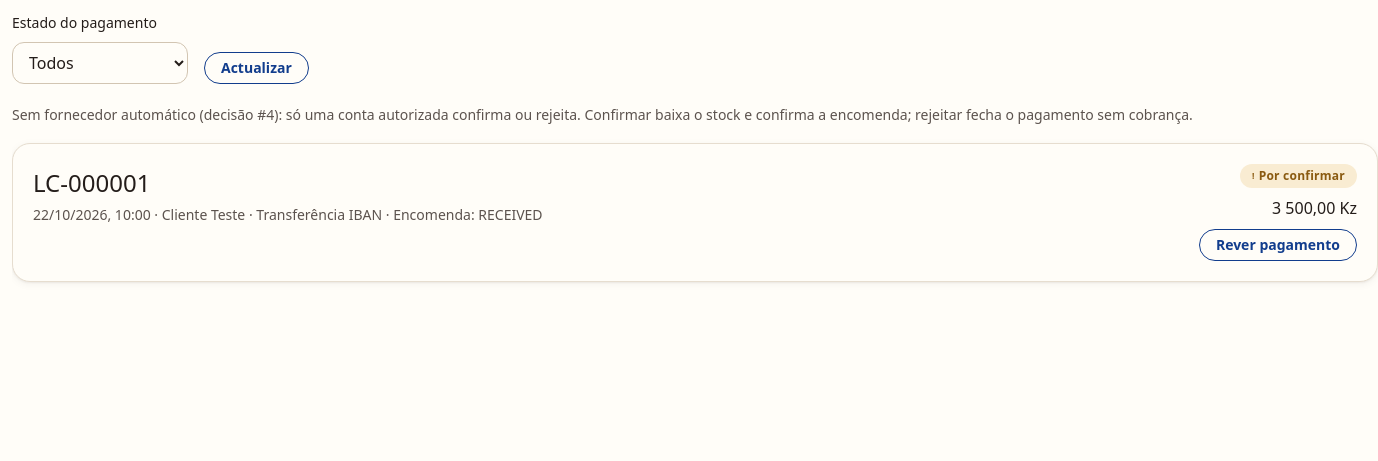
Test case: painel: fila de pagamentos › mostra a fila pendente com o contacto e abre a revisão
Expected: the link "LC-000001" is shown, left=33, top=166, right=150, bottom=199
Expected: the text "Cliente Teste" is shown, left=162, top=205, right=245, bottom=224
Click the button "Rever pagamento": [1278, 245] box left=1199, top=229, right=1357, bottom=261
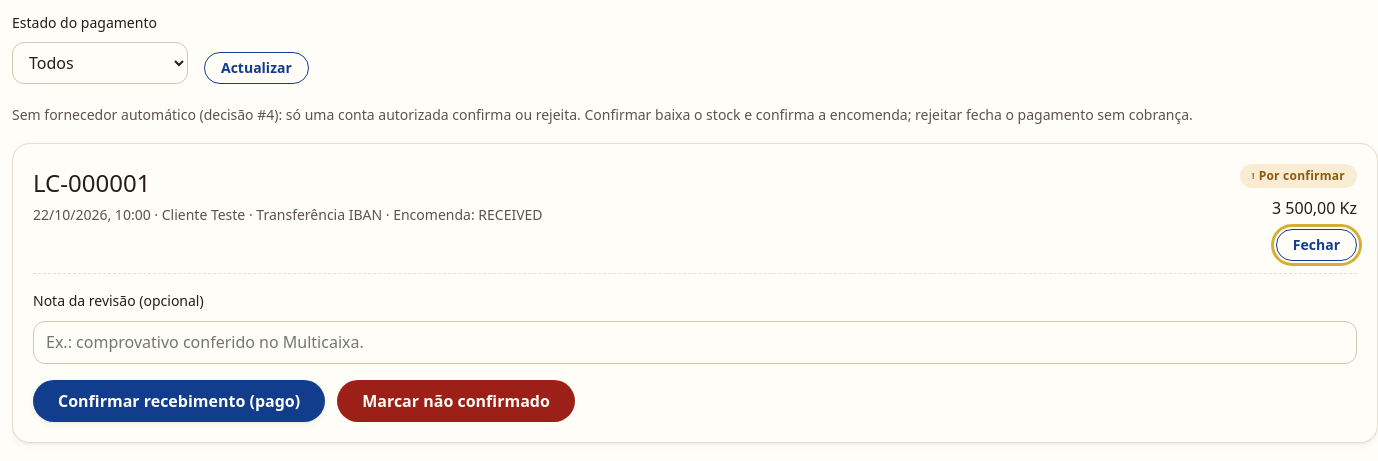
Now the field labelled "Nota da revisão (opcional)" is shown, box left=33, top=321, right=1357, bottom=364
Now the button "Confirmar recebimento (pago)" is shown, box left=33, top=380, right=325, bottom=422
Now the button "Marcar não confirmado" is shown, box left=337, top=380, right=575, bottom=422
